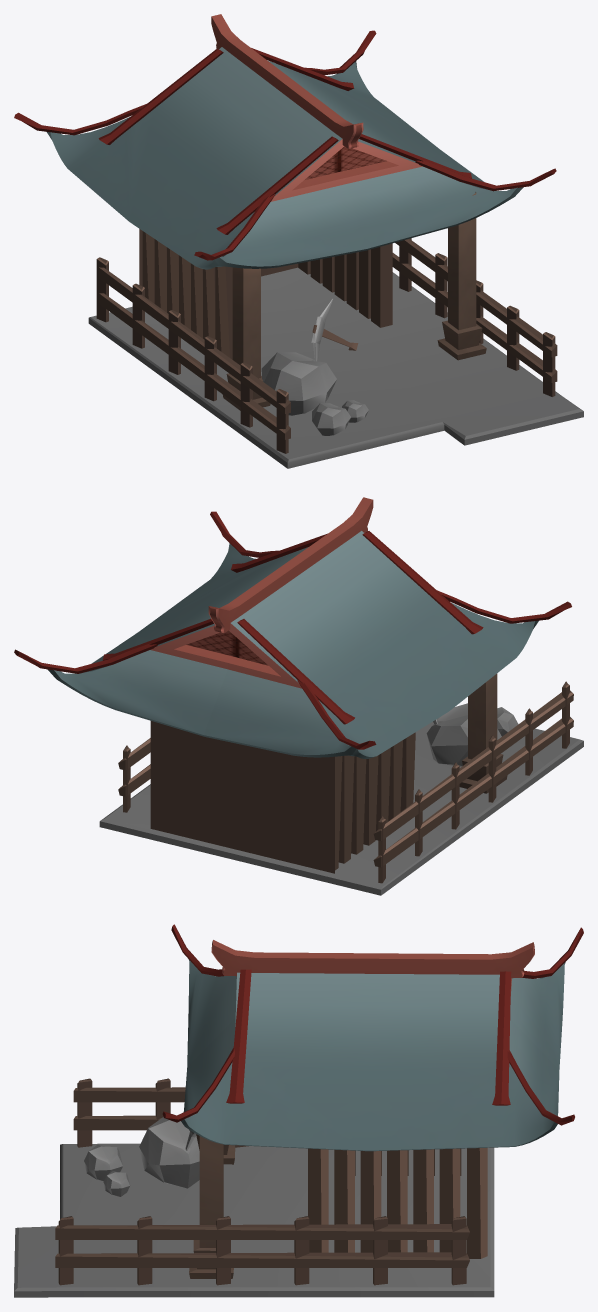
Rendered from mine_2lvl.fbx.
The picture shows the model from 3 angles, top to bottom: view 1: azimuth 30°, elevation 25°; view 2: azimuth 150°, elevation 25°; view 3: azimuth 270°, elevation 25°; orthographic projection. The views are drawn at different scales.
Visible parts, largest first — view 1: mine_2lvl; view 2: mine_2lvl; view 3: mine_2lvl.
Part boxes in pixels (left/top/right/bottom): mine_2lvl: left=14, top=14, right=583, bottom=468; mine_2lvl: left=14, top=497, right=583, bottom=895; mine_2lvl: left=14, top=924, right=583, bottom=1297.
Bounding box in the file's own units: 5.26 × 3.58 × 6.52.
